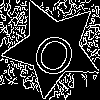O: (28, 22, 84, 81)
